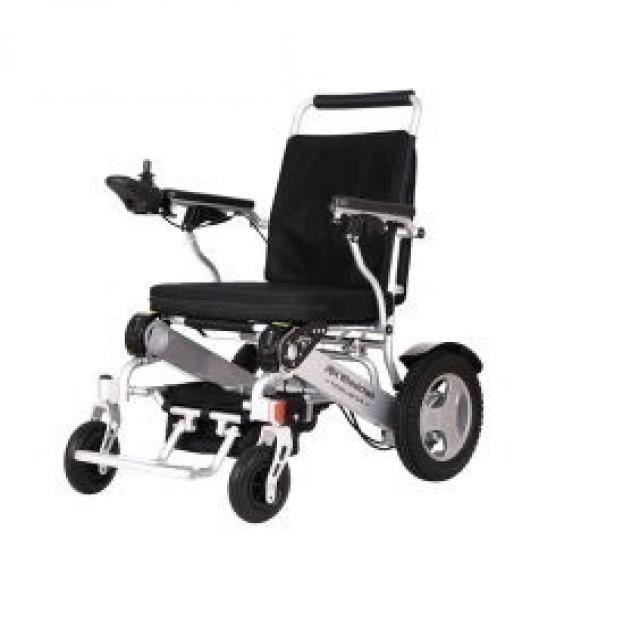wheelchair: (52, 68, 503, 533)
